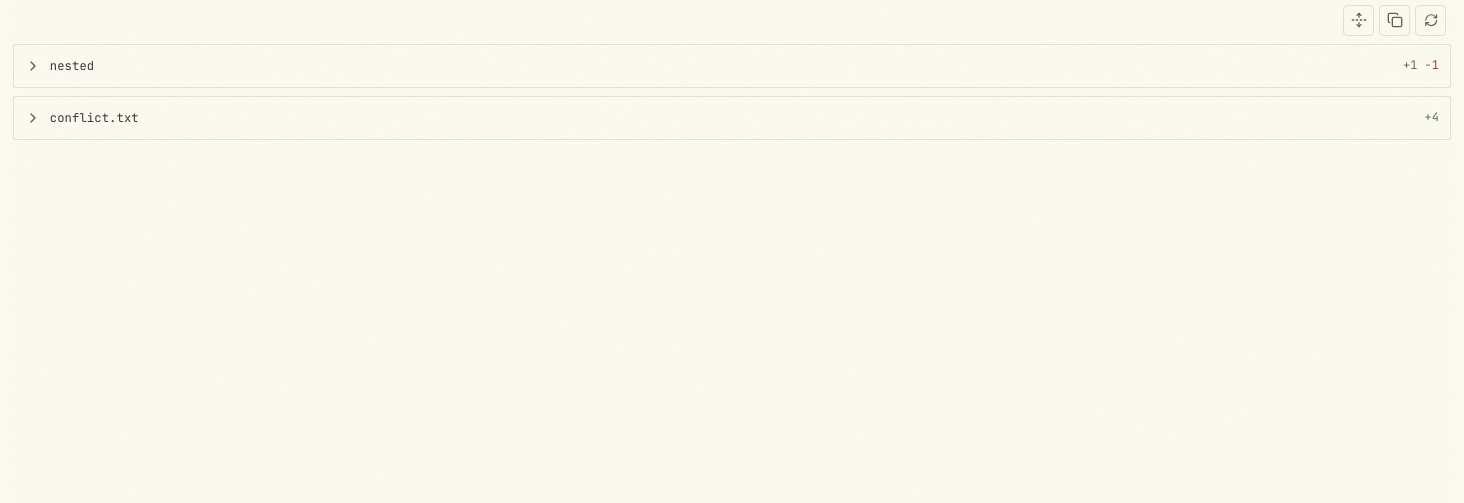
Scenario: GitDiffModal › keeps nested submodule diffs together and includes combined conflict diffs
Expected: the button "nested/child/file.txt" is not shown
Expected: the button with aria-label "Expand conflict.txt" is shown, [14,96,1450,139]
Click the button with aria-label "Expand nested" at x=72, y=66, box [14,45,1450,87]
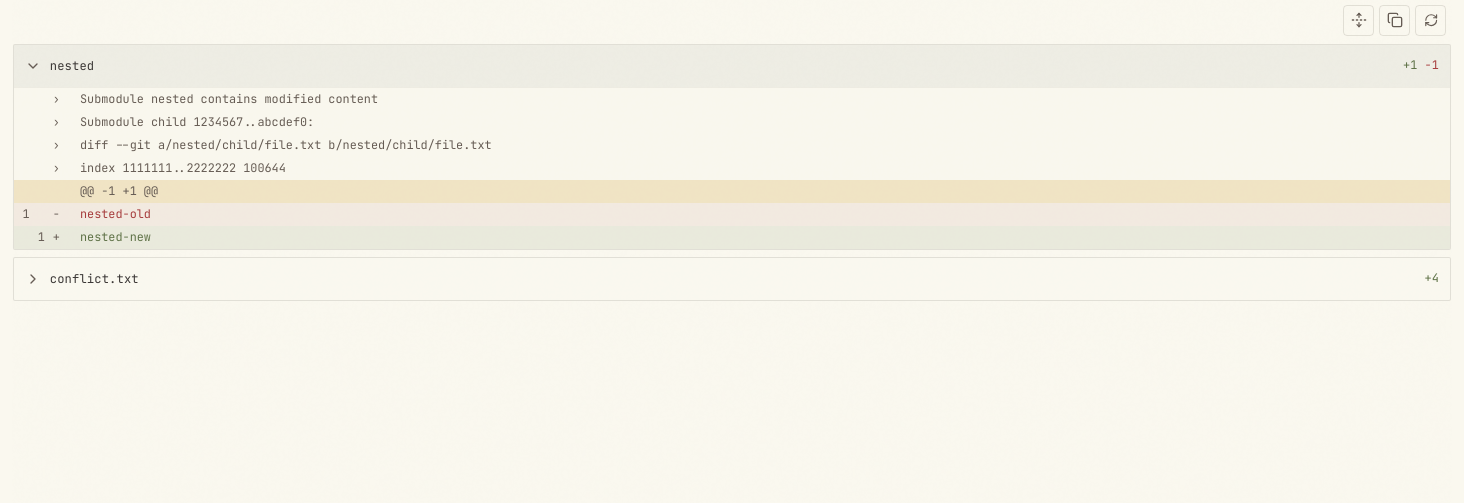
Now the text "nested-old" is shown, box [80,206,151,222]
Now the text "nested-new" is shown, box [80,229,151,245]
Click the button with aria-label "Expand conflict.txt" at x=94, y=279, box [14,258,1450,300]
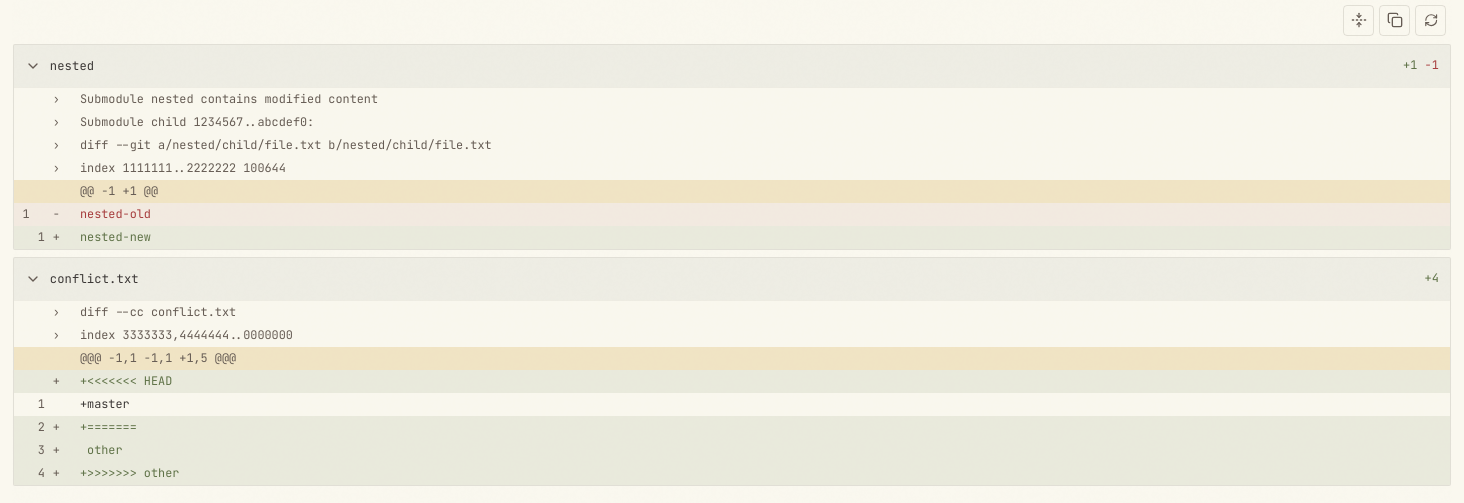
Now the text "+<<<<<<< HEAD" is shown, box [80,373,172,389]
Now the text "+>>>>>>> other" is shown, box [80,465,179,481]
